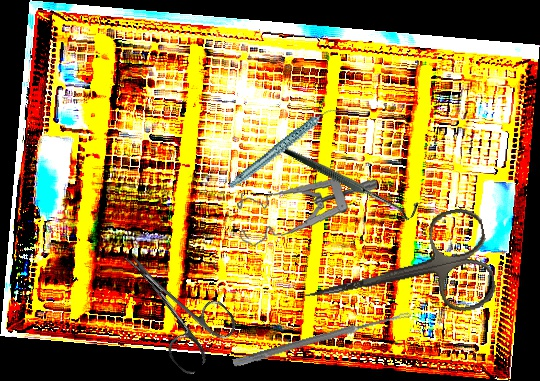Handpiece: (217, 106, 349, 189)
Hook Surgical: (273, 97, 424, 259)
Iris Scissors: (294, 204, 500, 344), (99, 231, 244, 378)
Speculum: (233, 165, 379, 258)
Surgical Spoon: (232, 308, 412, 369)
